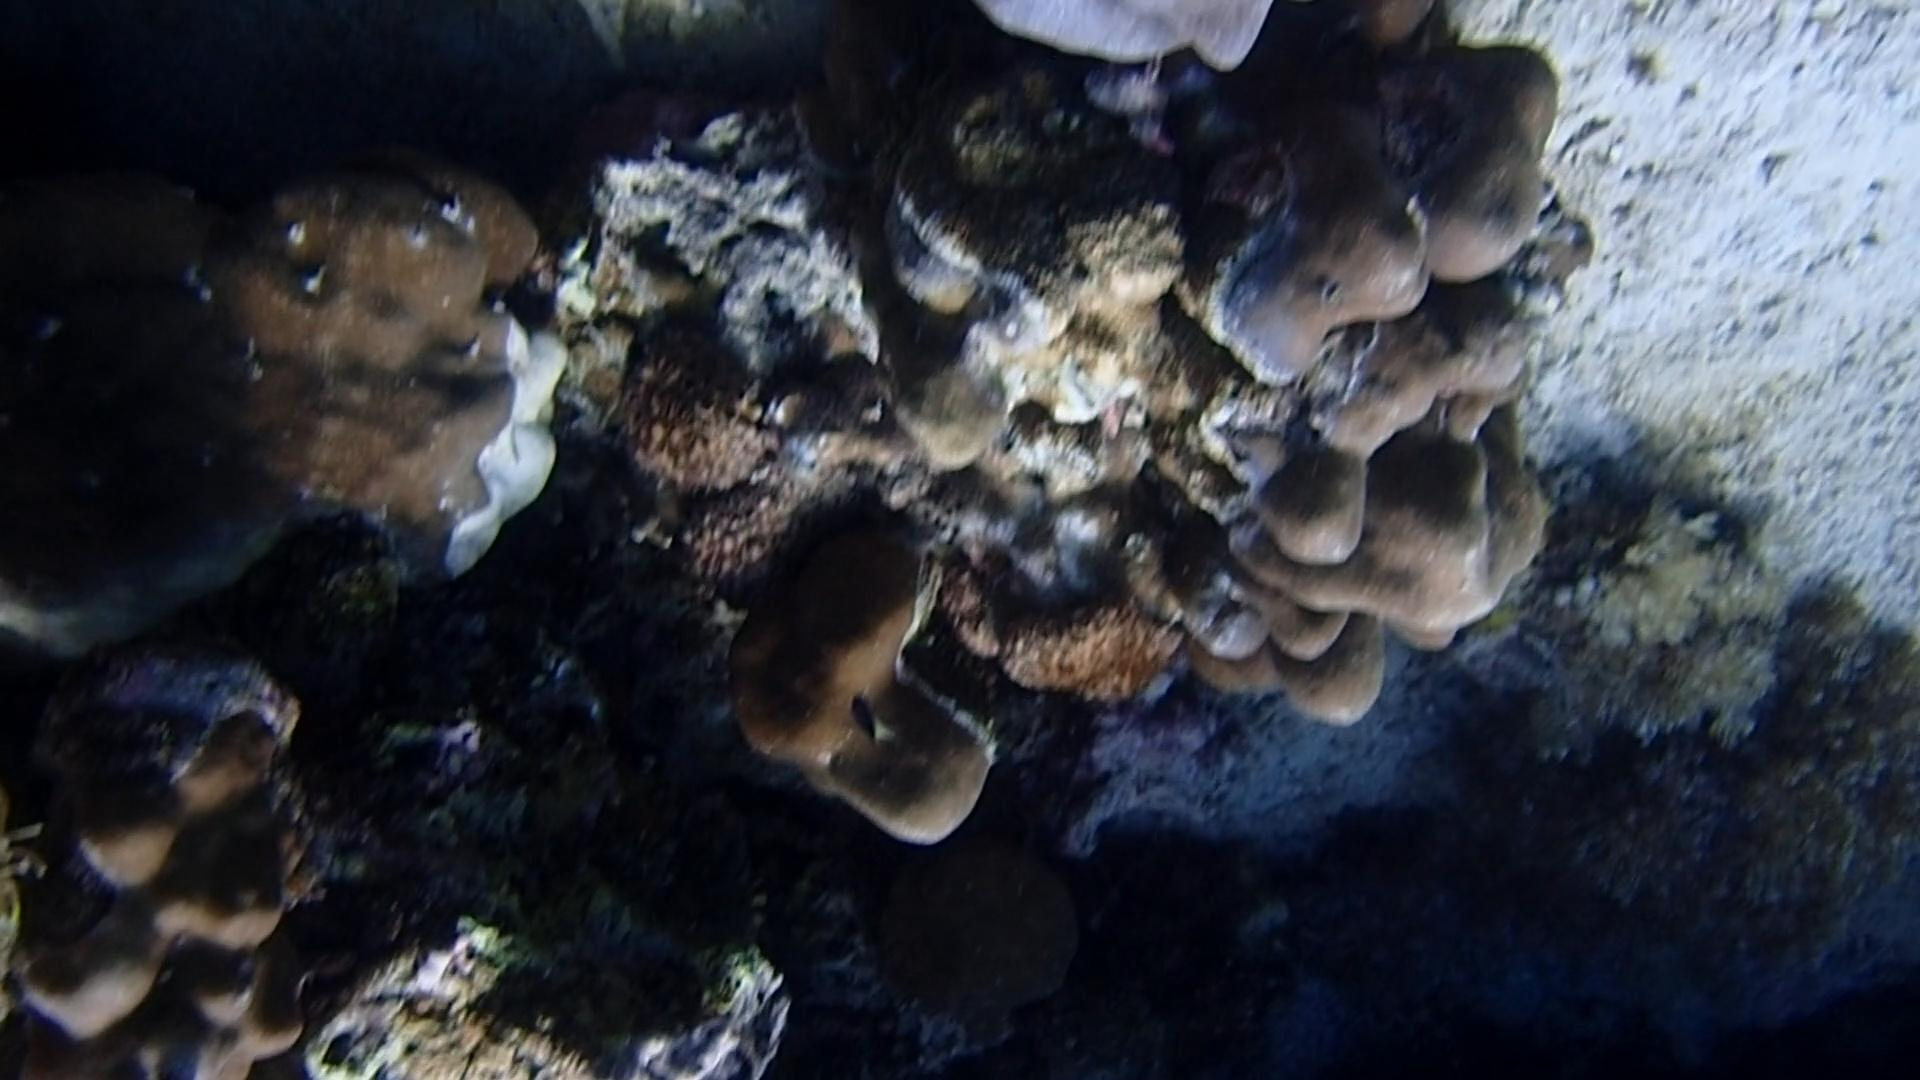Yellow Tail: (832, 679, 891, 750)
